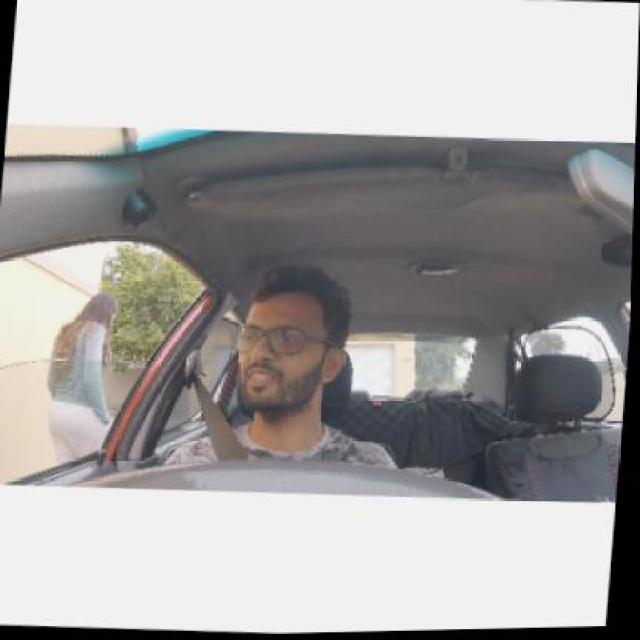person: (239, 273, 349, 399)
